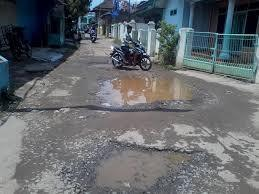Pothole: (66, 132, 242, 194), (84, 57, 217, 113)
